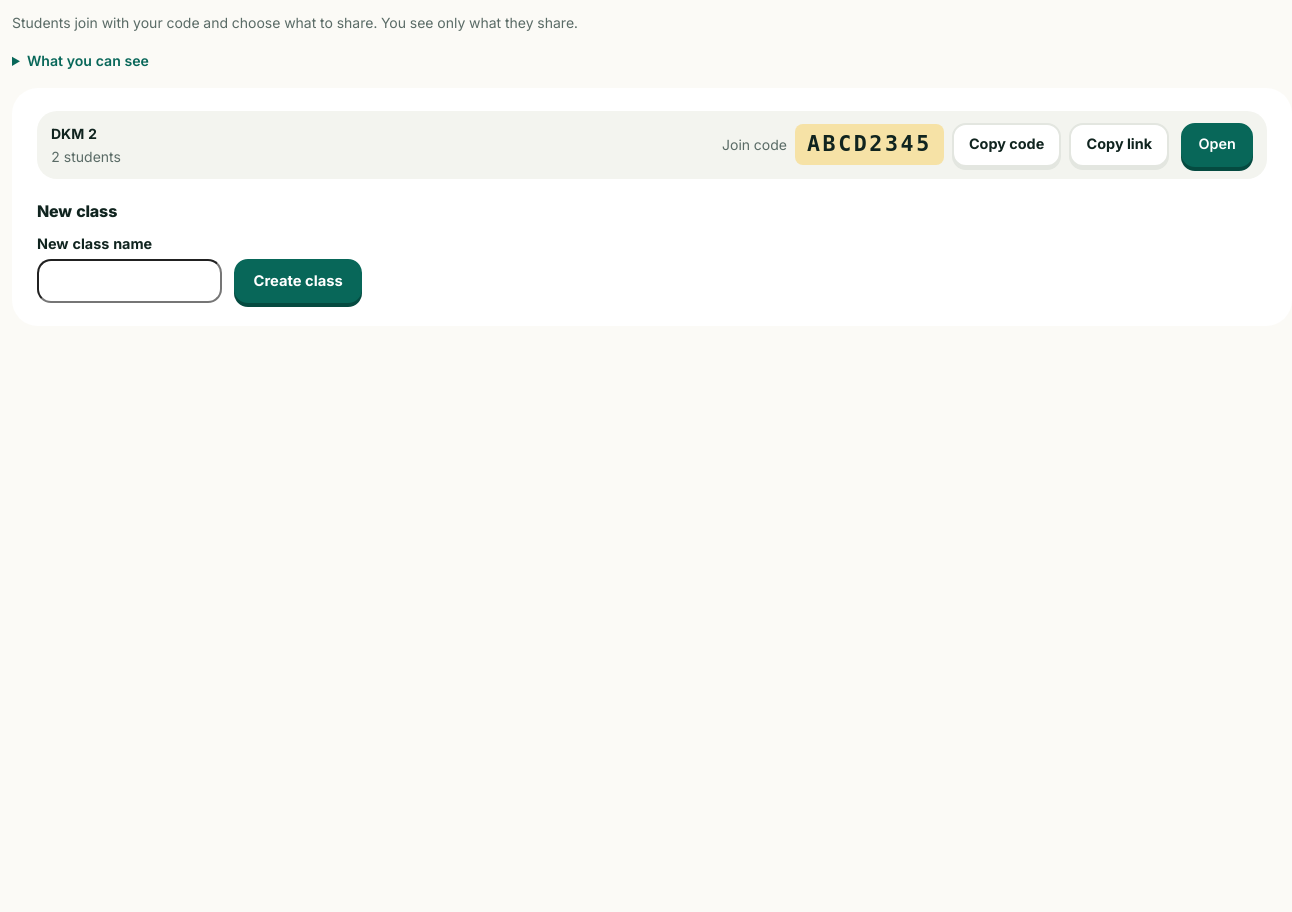
Test: CounsellorClasses › lists the class and filters the dashboard by on-track status
The image size is (1292, 912).
expect the text "ABCD2345" is shown: met, box [795,124,944,165]
Click the button "Open" at x=1217, y=144, box [1181,122,1253,166]
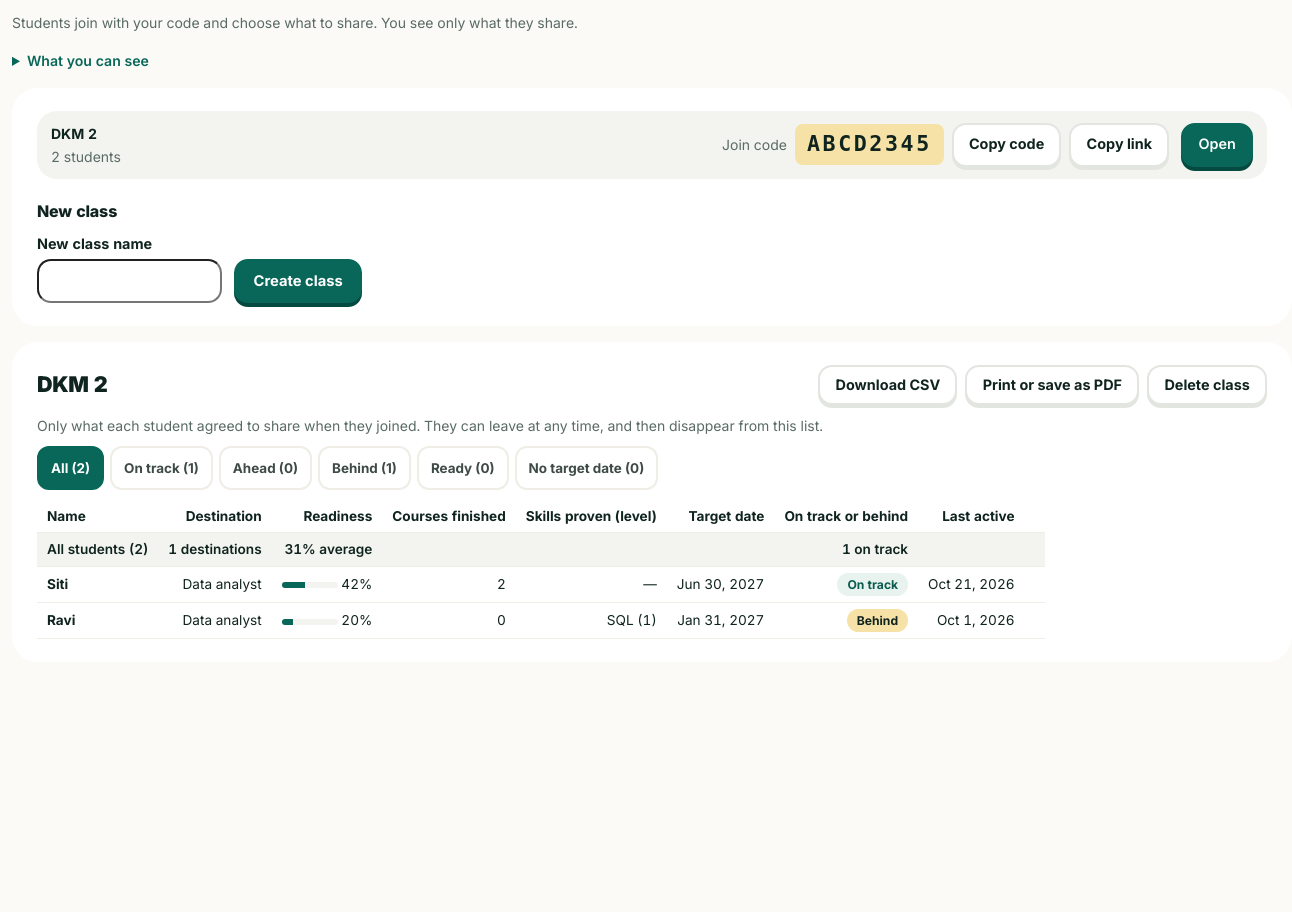
expect the column heading "Ravi" is shown: met, box [37,602,158,639]
Click the radio button labelled "Behind (1)" at x=364, y=468, box [318,446,411,490]
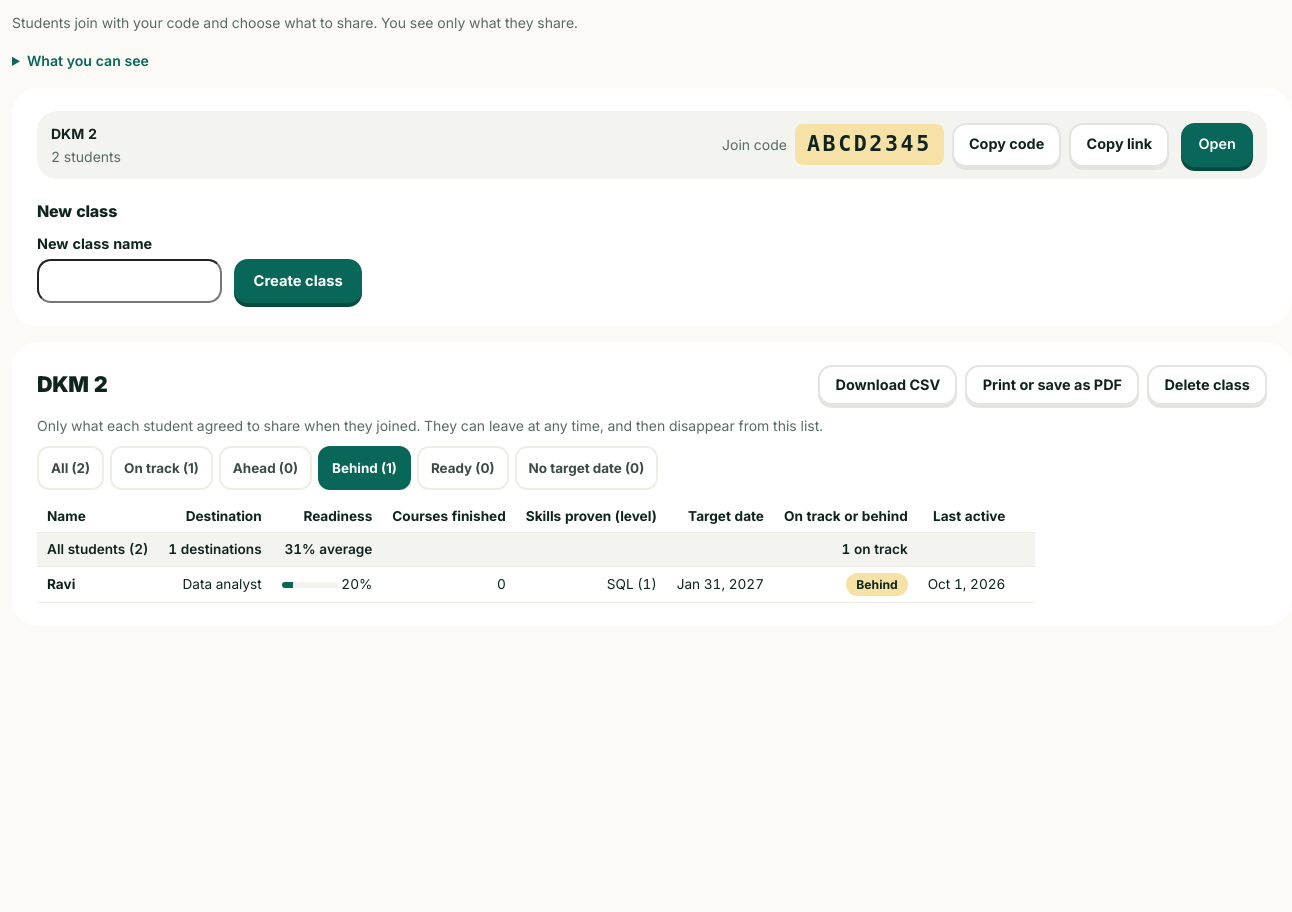
expect the column heading "Siti" is gone: met
expect the column heading "Ravi" is shown: met, box [37,566,158,602]
